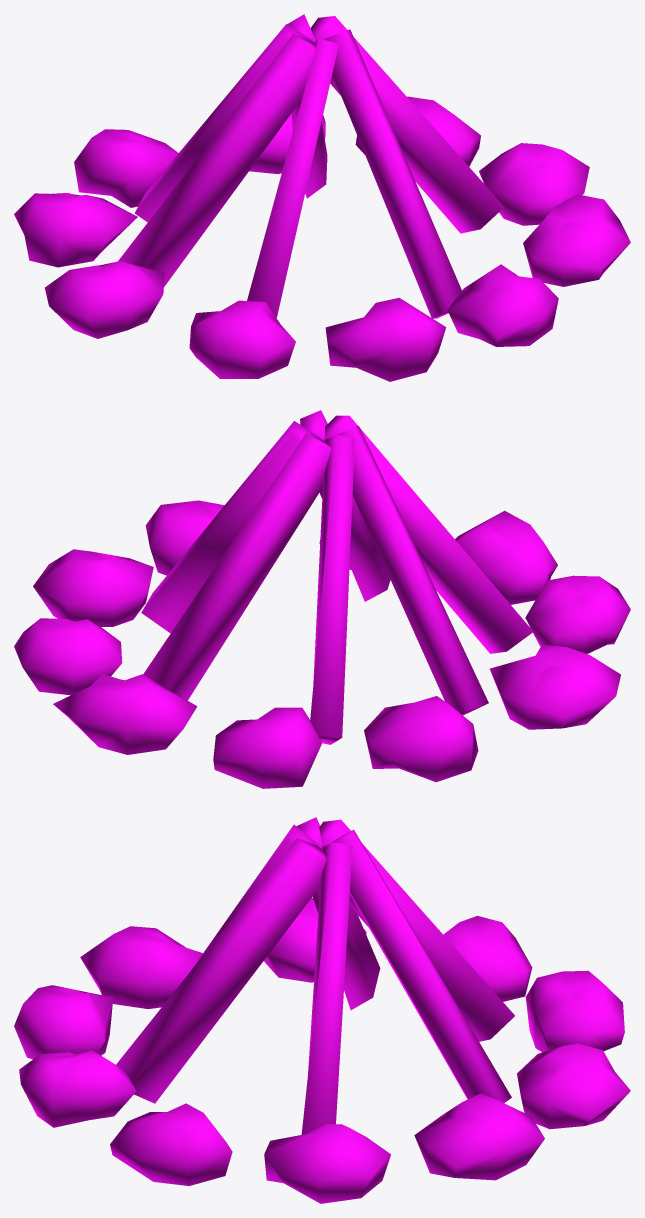
Rendered from campfire.glb.
The picture shows the model from 3 angles, top to bottom: view 1: azimuth 30°, elevation 25°; view 2: azimuth 150°, elevation 25°; view 3: azimuth 270°, elevation 25°; orthographic projection. The views are drawn at different scales.
Parts seen in each view (by area): view 1: Cube_001; view 2: Cube_001; view 3: Cube_001.
Part boxes in pixels (bbox=[...]): Cube_001: bbox=[14, 14, 630, 381]; Cube_001: bbox=[14, 410, 630, 788]; Cube_001: bbox=[14, 817, 630, 1203].
Bounding box in the file's own units: 5.06 × 2.15 × 4.75.
